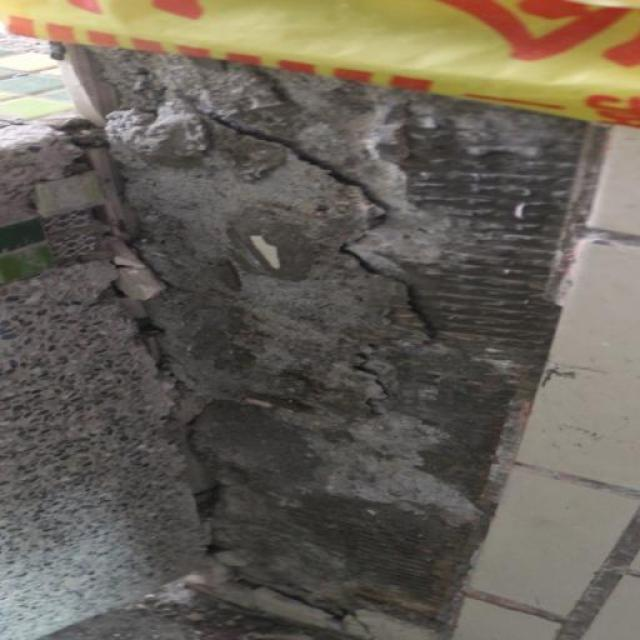D10: (88, 49, 602, 629)
